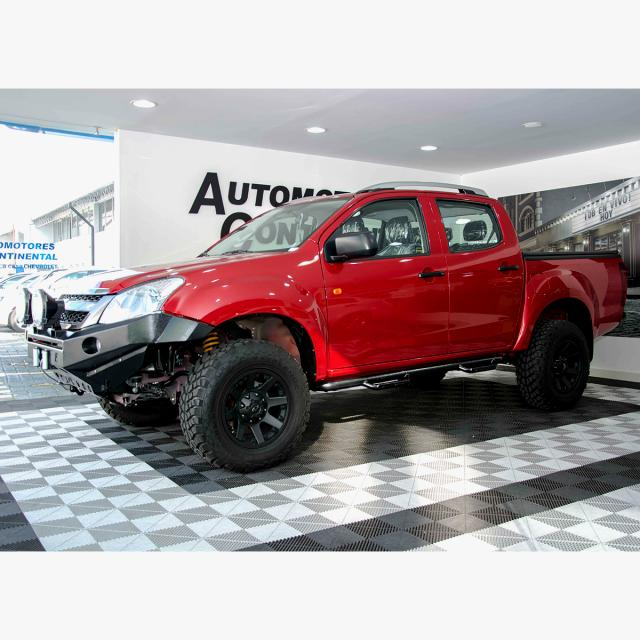CMT: (16, 181, 630, 470)
